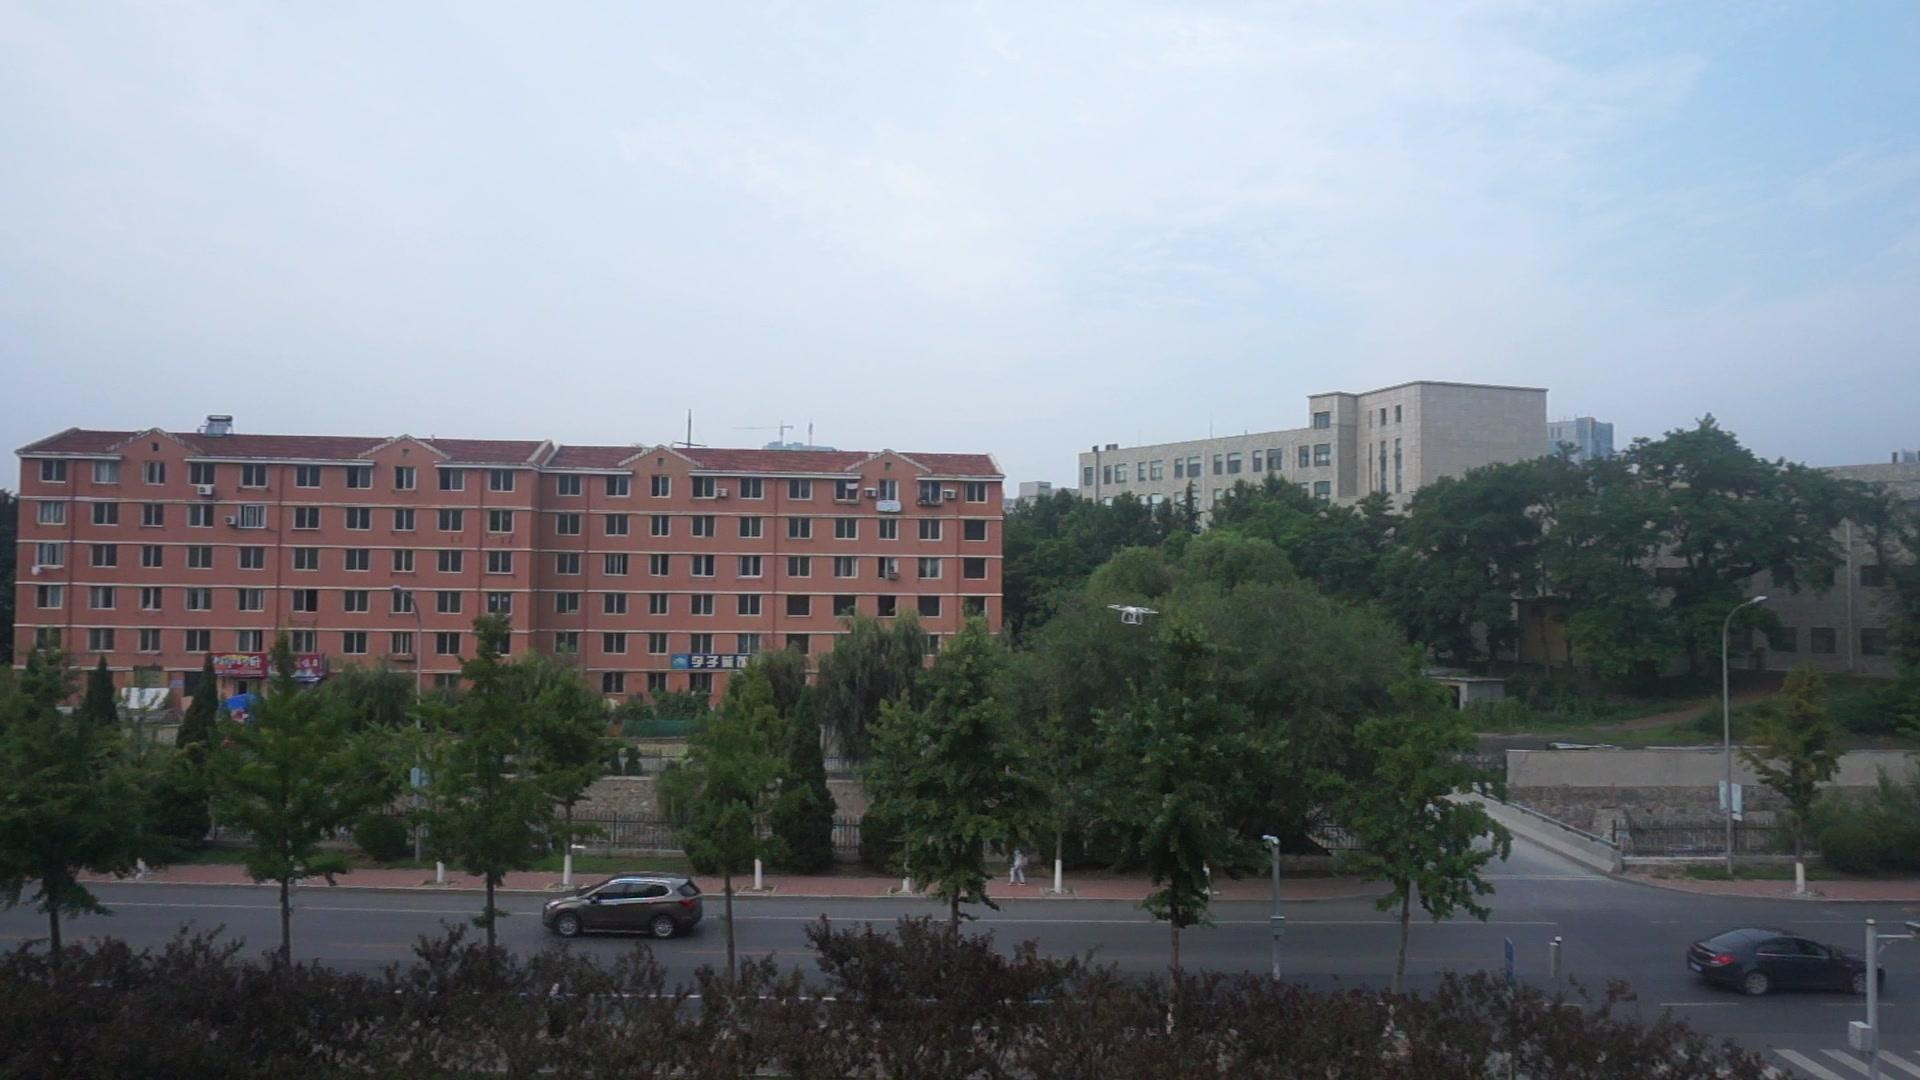UAV: (1108, 605, 1159, 626)
